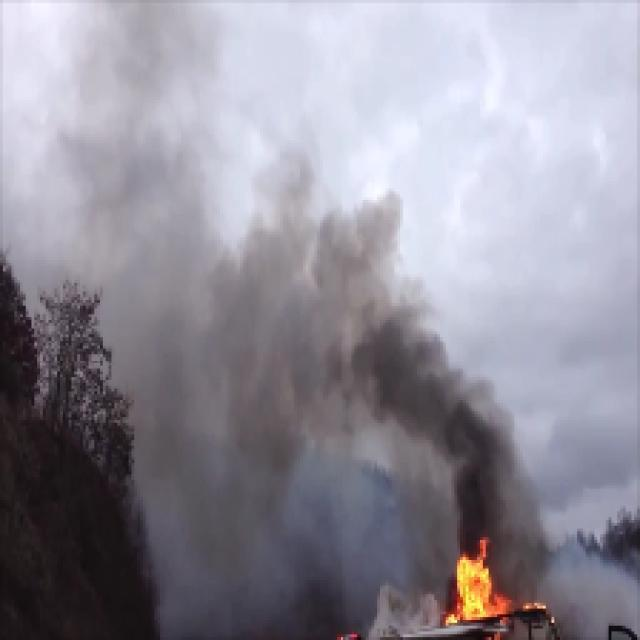Fire: (451, 548, 498, 608)
Smoke: (326, 270, 512, 547)
